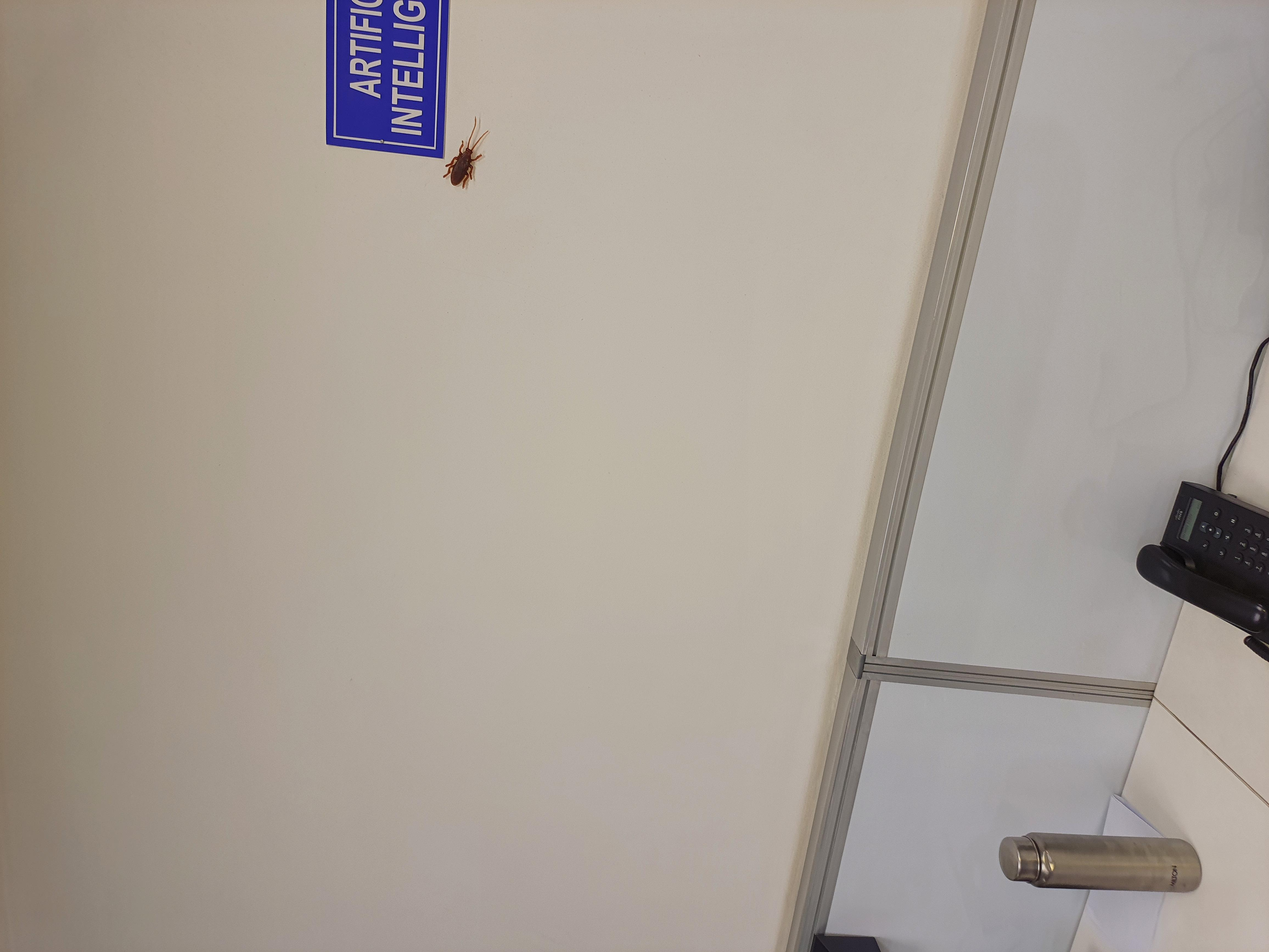cockroach: (996, 328, 1171, 394)
